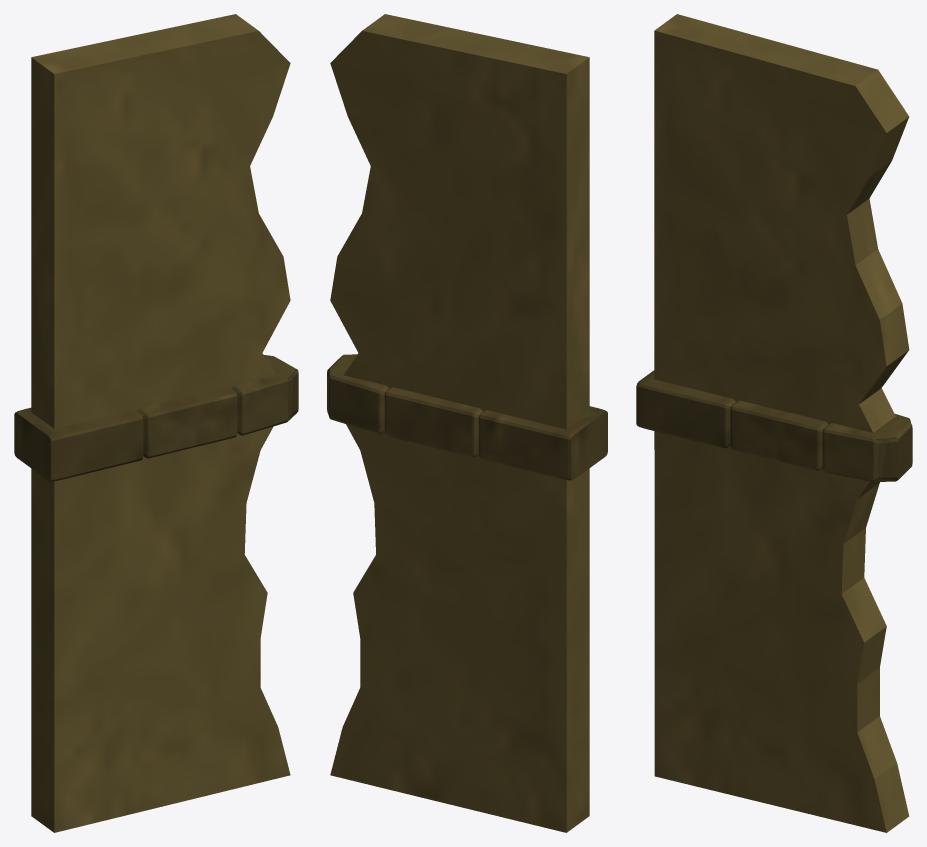
File: Wall_3.fbx
3 renders of one model, left to right at view 1: azimuth 30°, elevation 25°; view 2: azimuth 150°, elevation 25°; view 3: azimuth 330°, elevation 25°, orthographic.
Visible parts, largest first — view 1: Wall_3; view 2: Wall_3; view 3: Wall_3.
Boxes of the visible parts, bbox=[...] form: Wall_3: bbox=[14, 14, 298, 832]; Wall_3: bbox=[327, 14, 607, 832]; Wall_3: bbox=[636, 14, 912, 832].
Size of the model in its own units: 293 by 827 by 74.99.
1 material, 1 textured.
